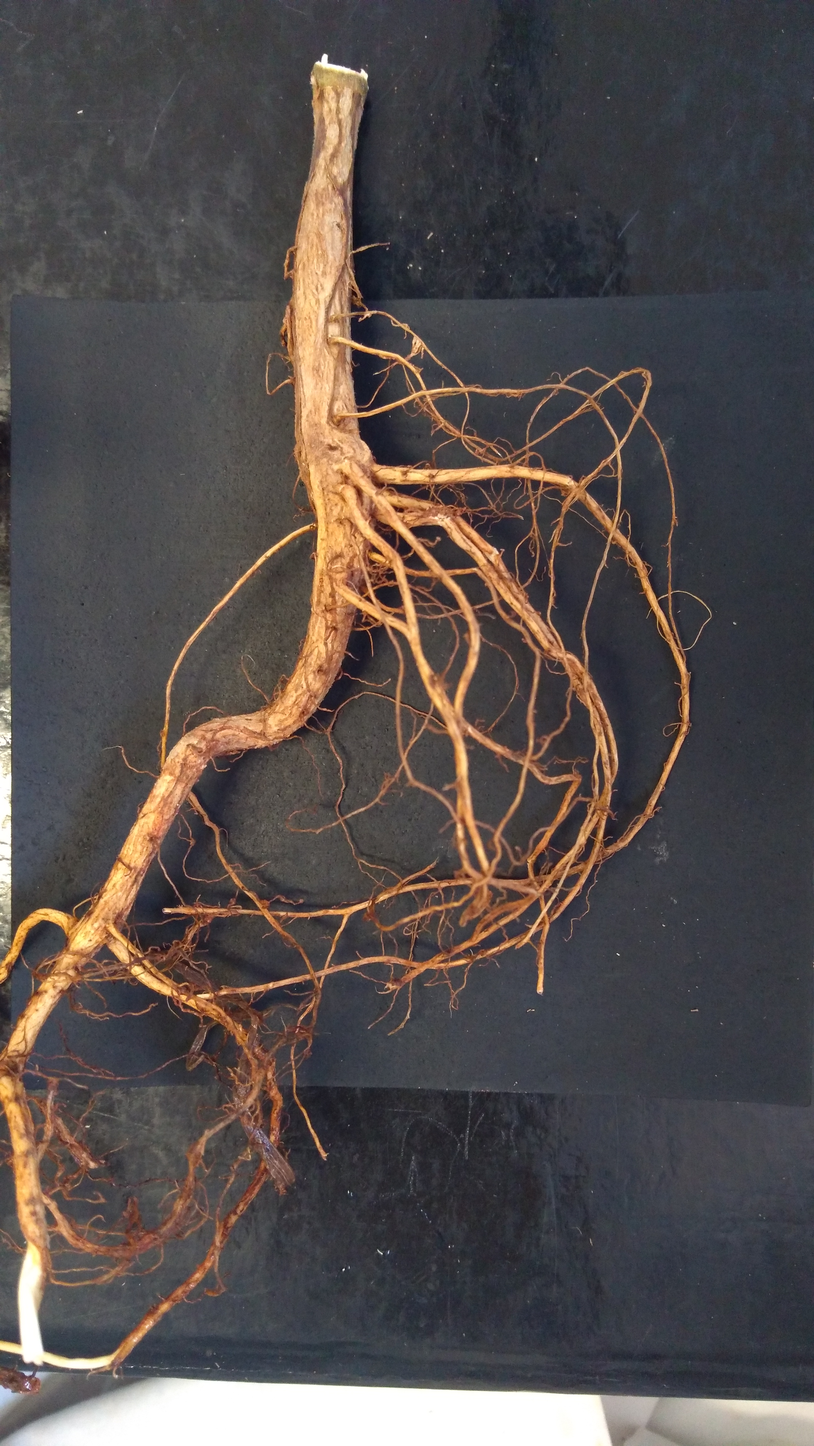nodule: (401, 323, 410, 330), (425, 463, 431, 470)
